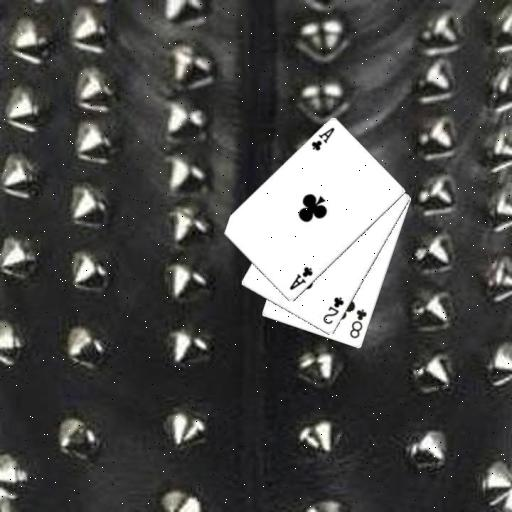2C: (320, 294, 346, 326)
8C: (347, 306, 369, 340)
AC: (286, 264, 314, 292), (308, 125, 336, 153)
